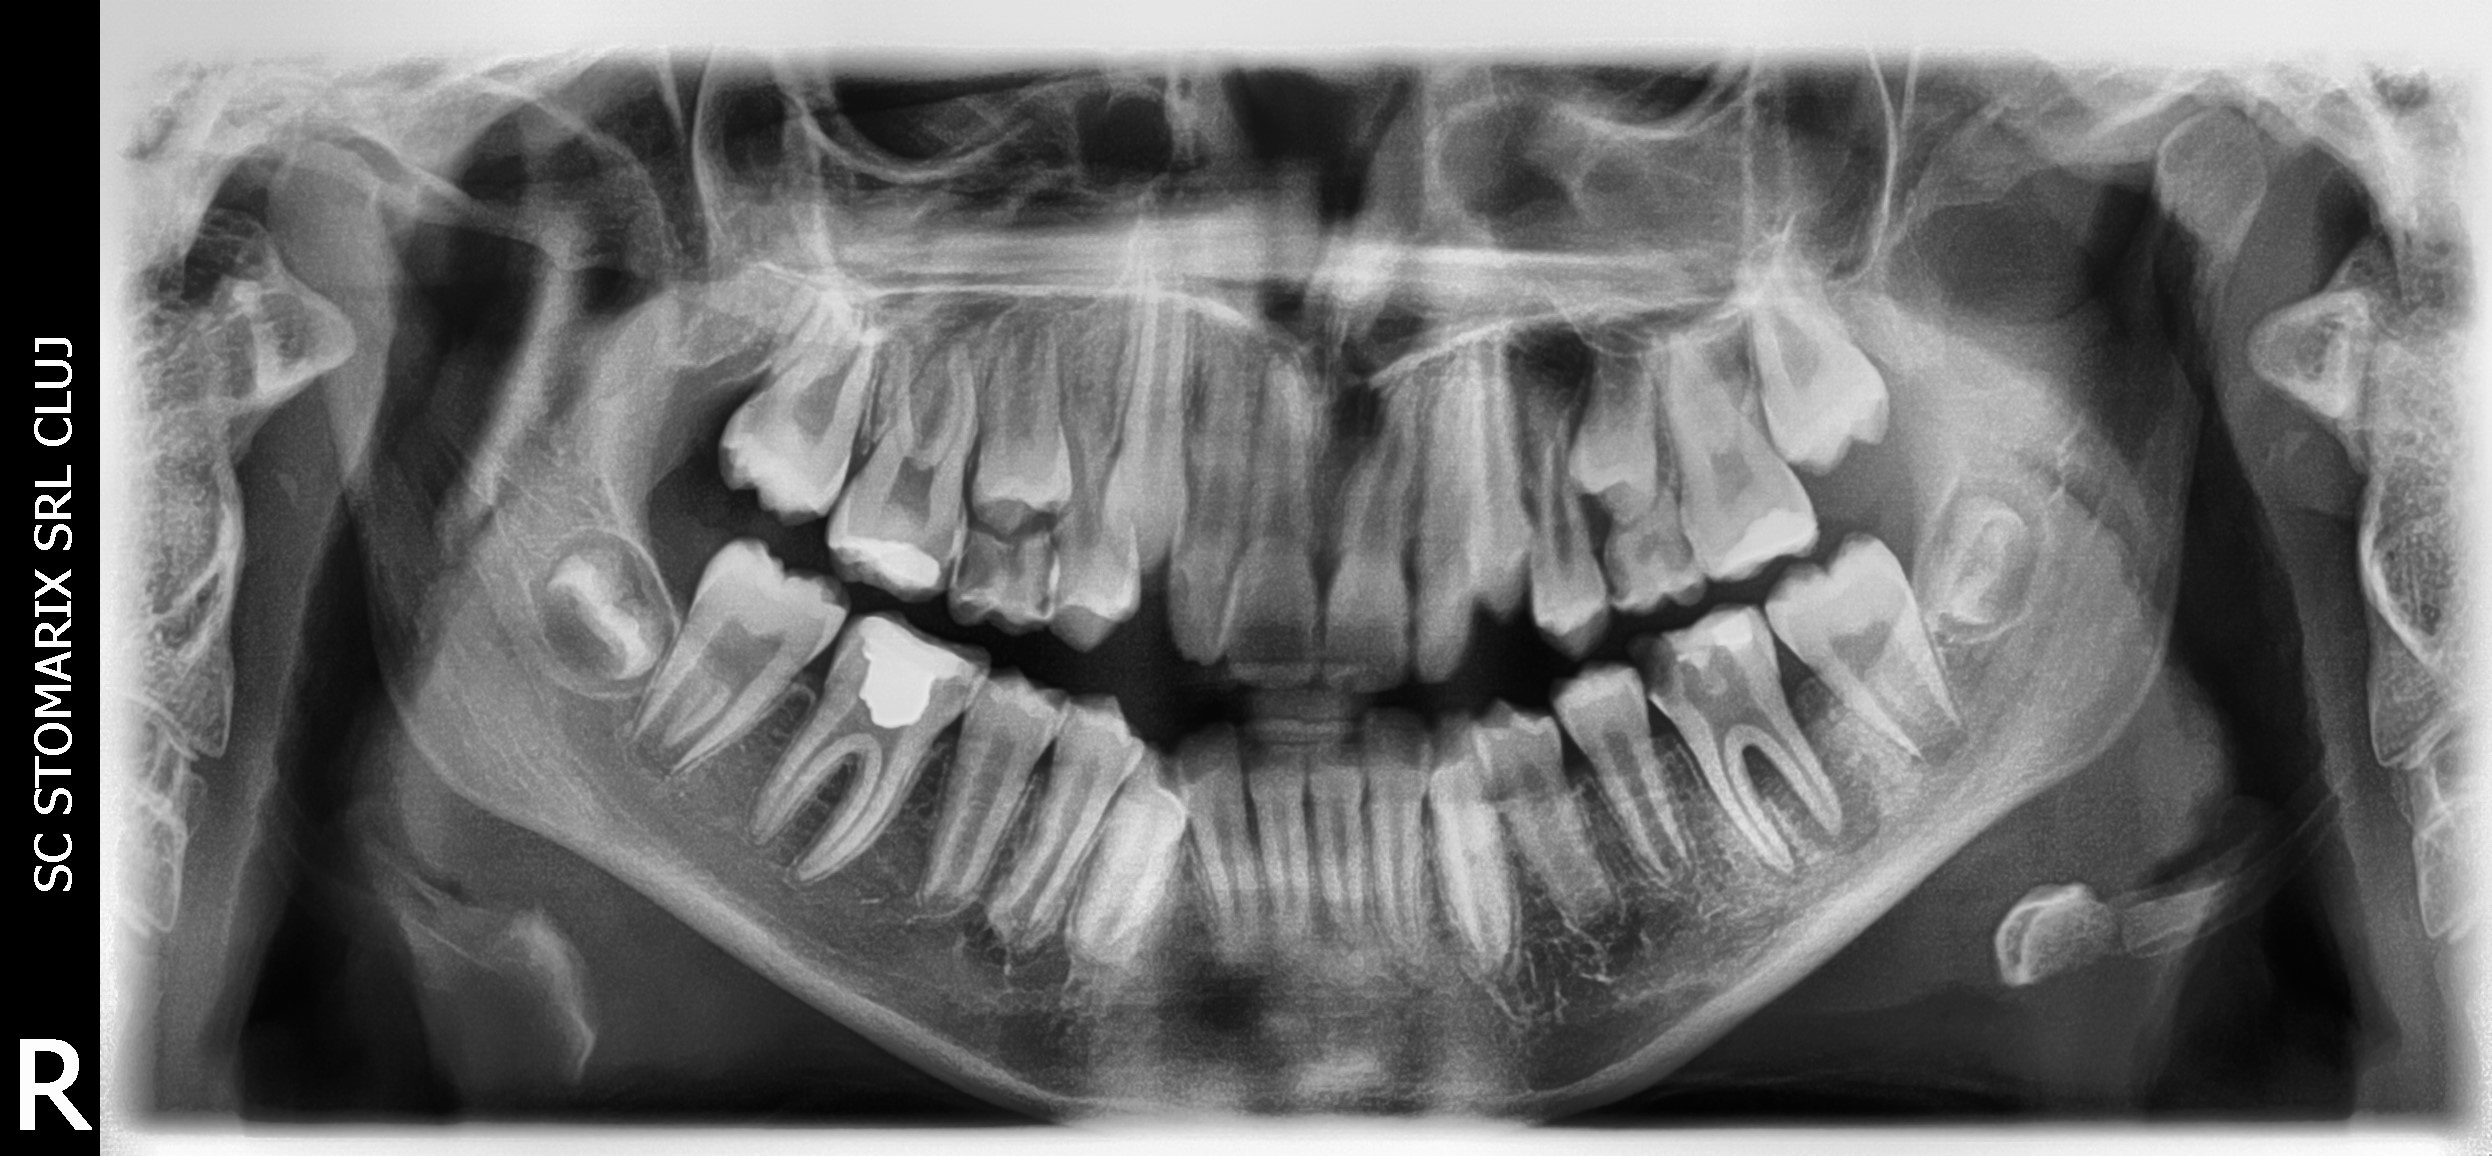API: (1777, 752, 1902, 876), (1726, 851, 1805, 910)
CAR: (1615, 623, 1685, 720), (1573, 549, 1645, 609), (1634, 530, 1710, 585)
FUR: (1694, 736, 1834, 811)
OBT: (823, 609, 987, 738), (804, 530, 968, 609), (1707, 483, 1817, 598), (1666, 603, 1759, 671)
